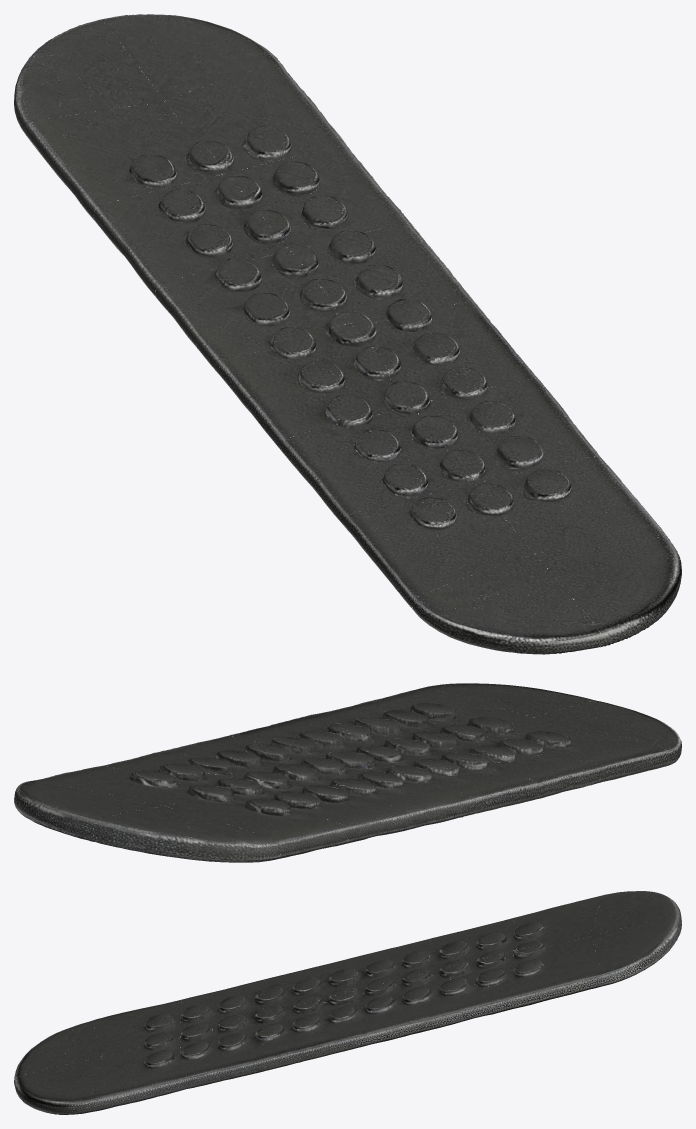
File: outil-ouverture.glb
The picture shows the model from 3 angles, top to bottom: view 1: azimuth 30°, elevation 25°; view 2: azimuth 150°, elevation 25°; view 3: azimuth 270°, elevation 25°; orthographic projection. The views are drawn at different scales.
Parts seen in each view (by area): view 1: tripo_node_8663e467-0755-4c8f-9da0-d455bcf12545; view 2: tripo_node_8663e467-0755-4c8f-9da0-d455bcf12545; view 3: tripo_node_8663e467-0755-4c8f-9da0-d455bcf12545.
Boxes of the visible parts, box(x1,y1,x2,y2) form: tripo_node_8663e467-0755-4c8f-9da0-d455bcf12545: box(14, 14, 681, 654); tripo_node_8663e467-0755-4c8f-9da0-d455bcf12545: box(14, 683, 681, 862); tripo_node_8663e467-0755-4c8f-9da0-d455bcf12545: box(14, 891, 681, 1114).
Size of the model in its own units: 0.2891 by 0.2806 by 0.9797.
1 material, 1 textured.
